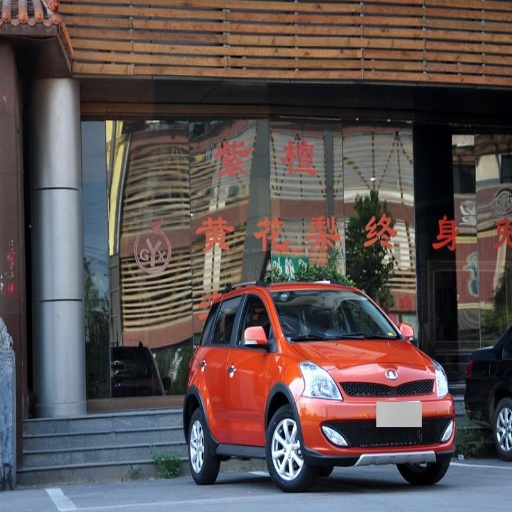front_bumper: (303, 380, 452, 458)
front_right_door: (229, 290, 272, 441)
hood: (295, 340, 435, 387)
